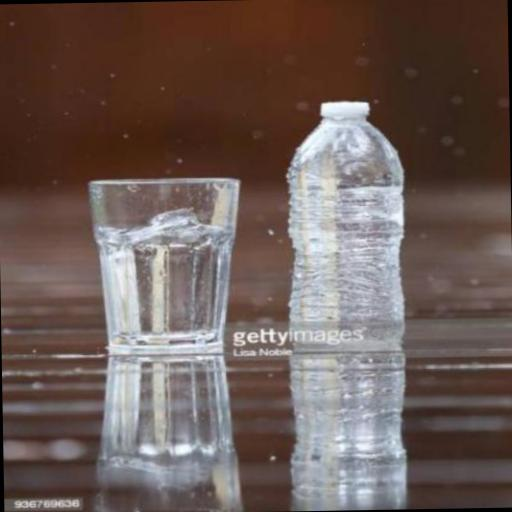Coca: (276, 86, 428, 380)
